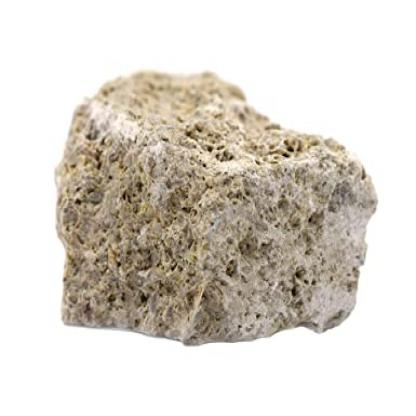Sedimentary_Limestone: (38, 61, 381, 342)
